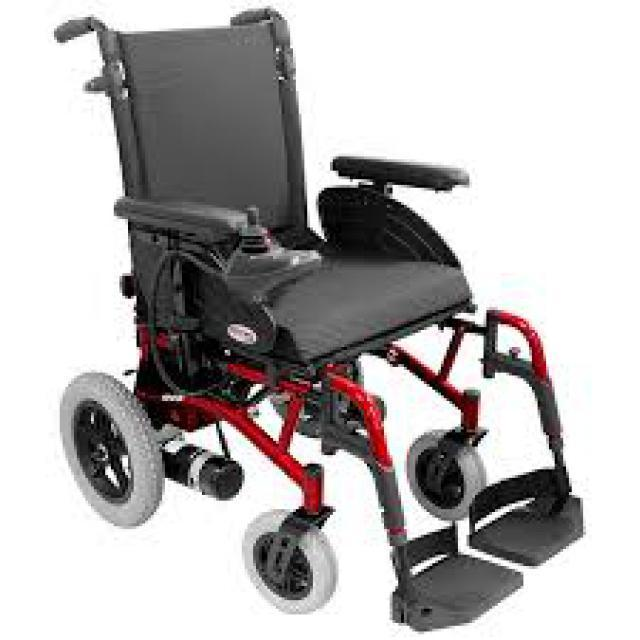wheelchairs: (58, 11, 586, 634)
